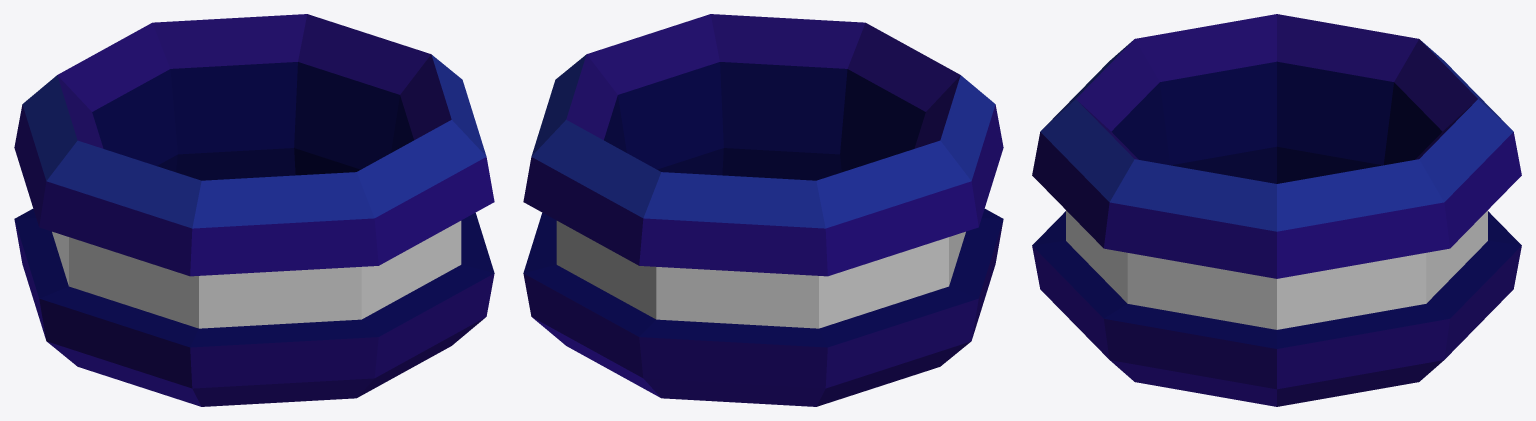
File: 3D_WeaponTrinket.fbx
3 views of the same model, side by side, from view 1: azimuth 30°, elevation 25°; view 2: azimuth 150°, elevation 25°; view 3: azimuth 270°, elevation 25° (orthographic).
Visible parts, largest first — view 1: GEO_Trinket, GEO_Trinket_Light; view 2: GEO_Trinket, GEO_Trinket_Light; view 3: GEO_Trinket, GEO_Trinket_Light.
Part boxes in pixels (left/top/right/bottom): GEO_Trinket: left=14, top=14, right=494, bottom=406; GEO_Trinket_Light: left=52, top=221, right=461, bottom=328; GEO_Trinket: left=523, top=14, right=1003, bottom=406; GEO_Trinket_Light: left=556, top=221, right=965, bottom=328; GEO_Trinket: left=1032, top=14, right=1521, bottom=406; GEO_Trinket_Light: left=1066, top=210, right=1487, bottom=329.
Bounding box in the file's own units: 0.1809 × 0.0909 × 0.1809.
